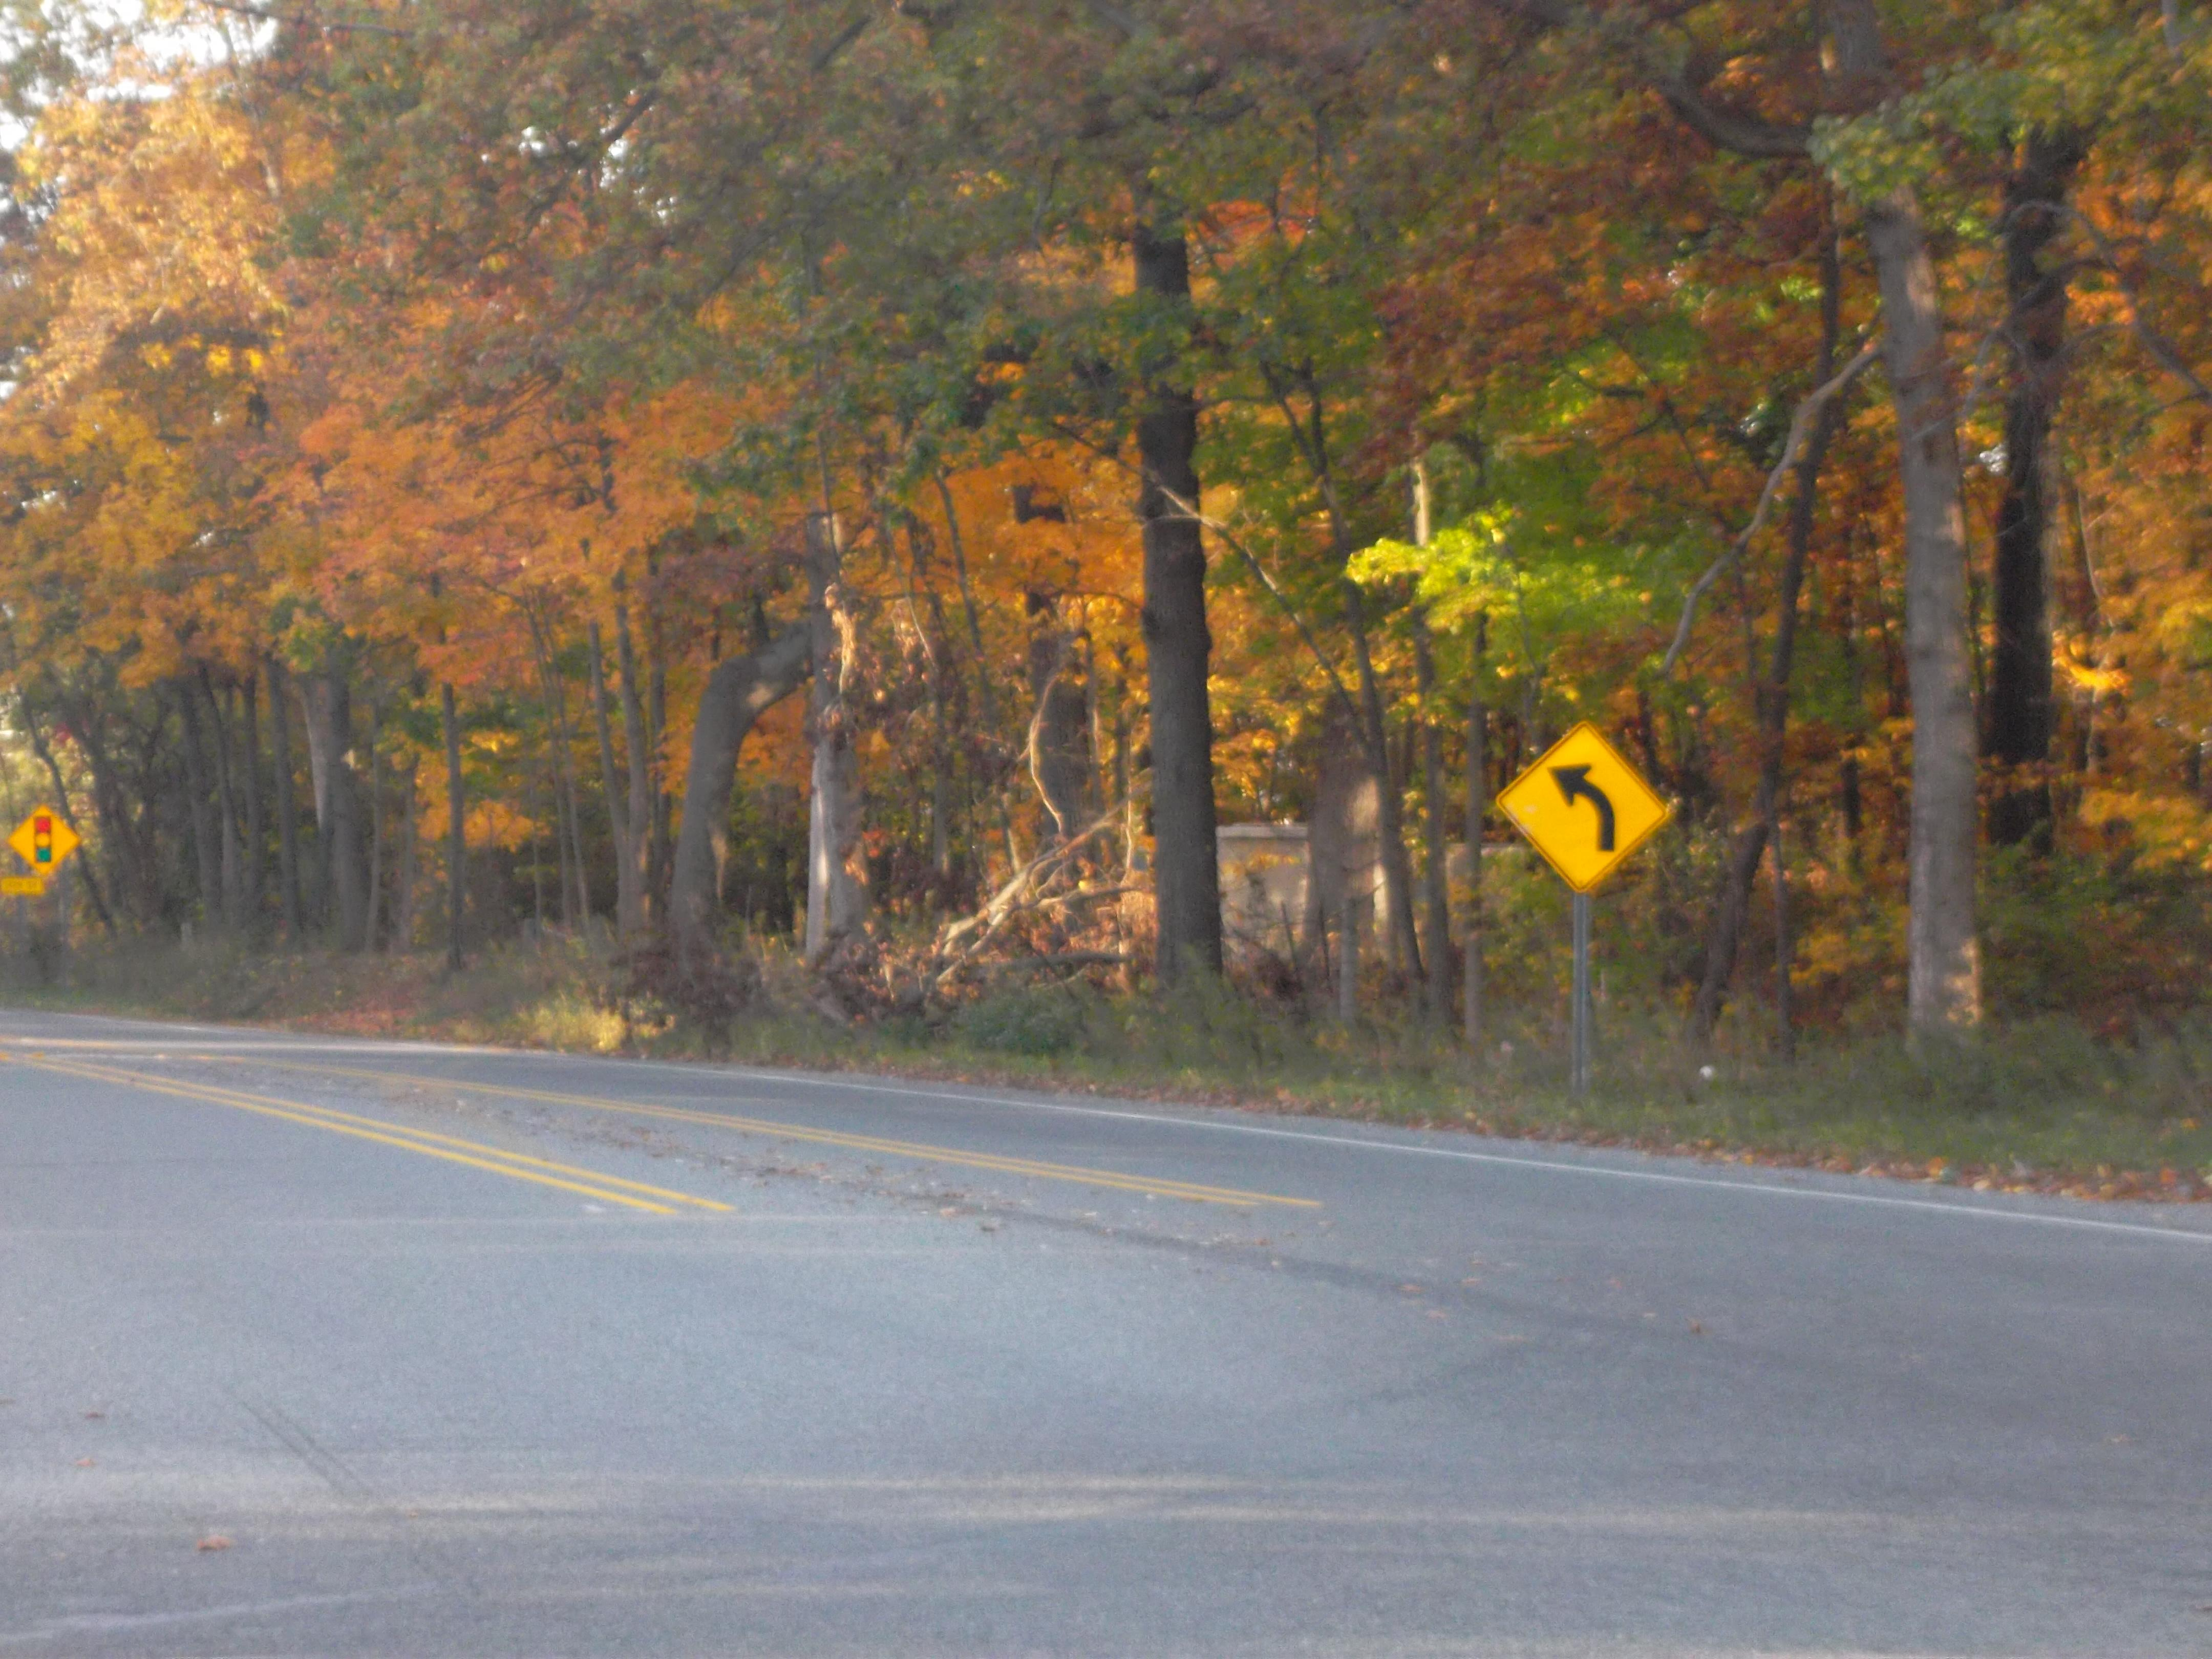warning: (1482, 716, 1691, 906), (2, 800, 89, 890)
